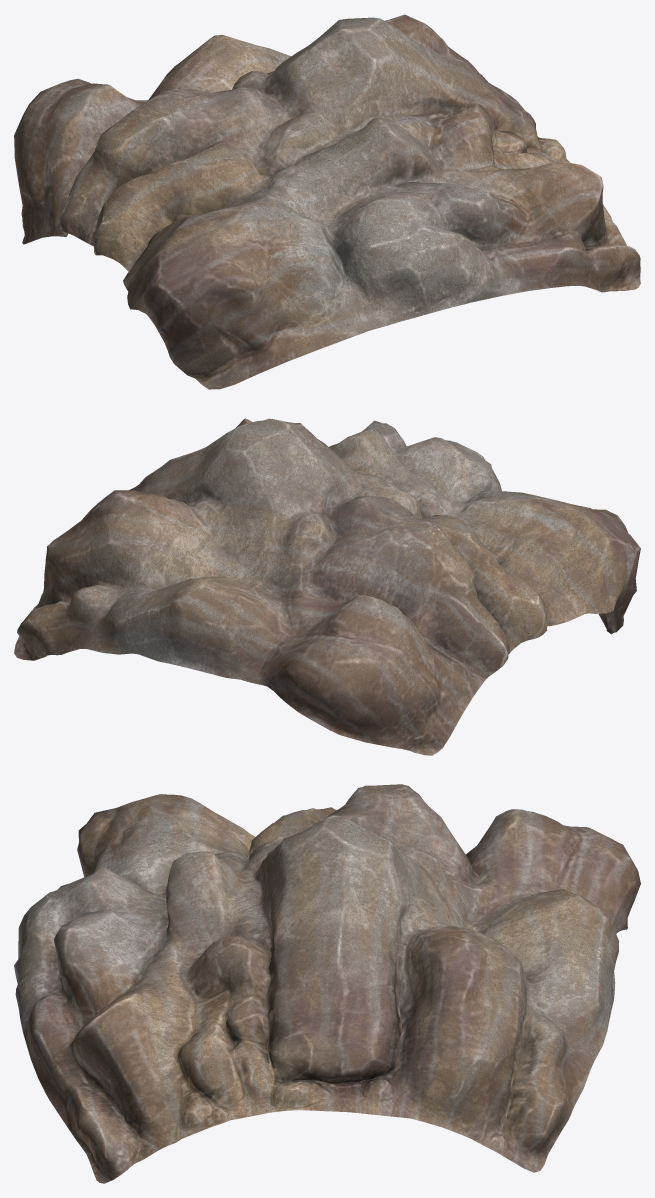
The model's file is cave_ravine_wall_sand_01_domed.dae.
3 renders of one model, top to bottom at view 1: azimuth 30°, elevation 25°; view 2: azimuth 150°, elevation 25°; view 3: azimuth 270°, elevation 25°, orthographic. The views are drawn at different scales.
Parts seen in each view (by area): view 1: wall_1_domed; view 2: wall_1_domed; view 3: wall_1_domed.
Part boxes in pixels (x1,y1,x2,y2): wall_1_domed: (14,14,640,389); wall_1_domed: (14,418,640,755); wall_1_domed: (14,784,640,1183).
Size of what is drawn, in the model's own units: 4 by 1.83 by 3.99.
Materials: 1 (1 with a texture image).
